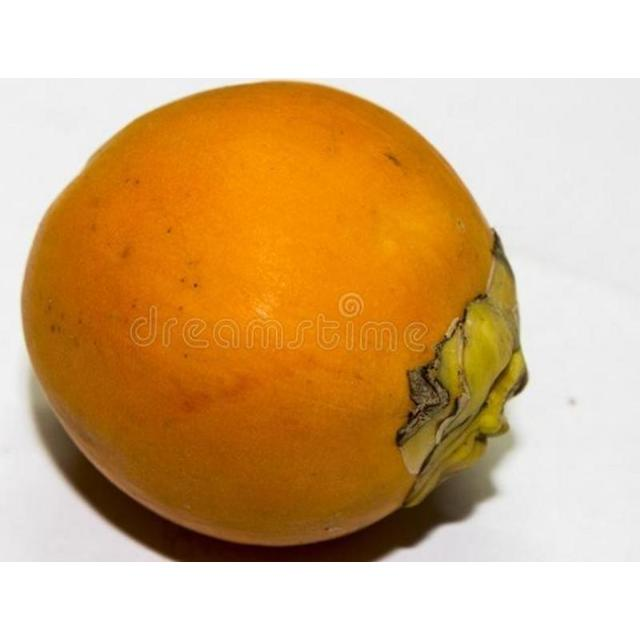good: (20, 81, 530, 550)
